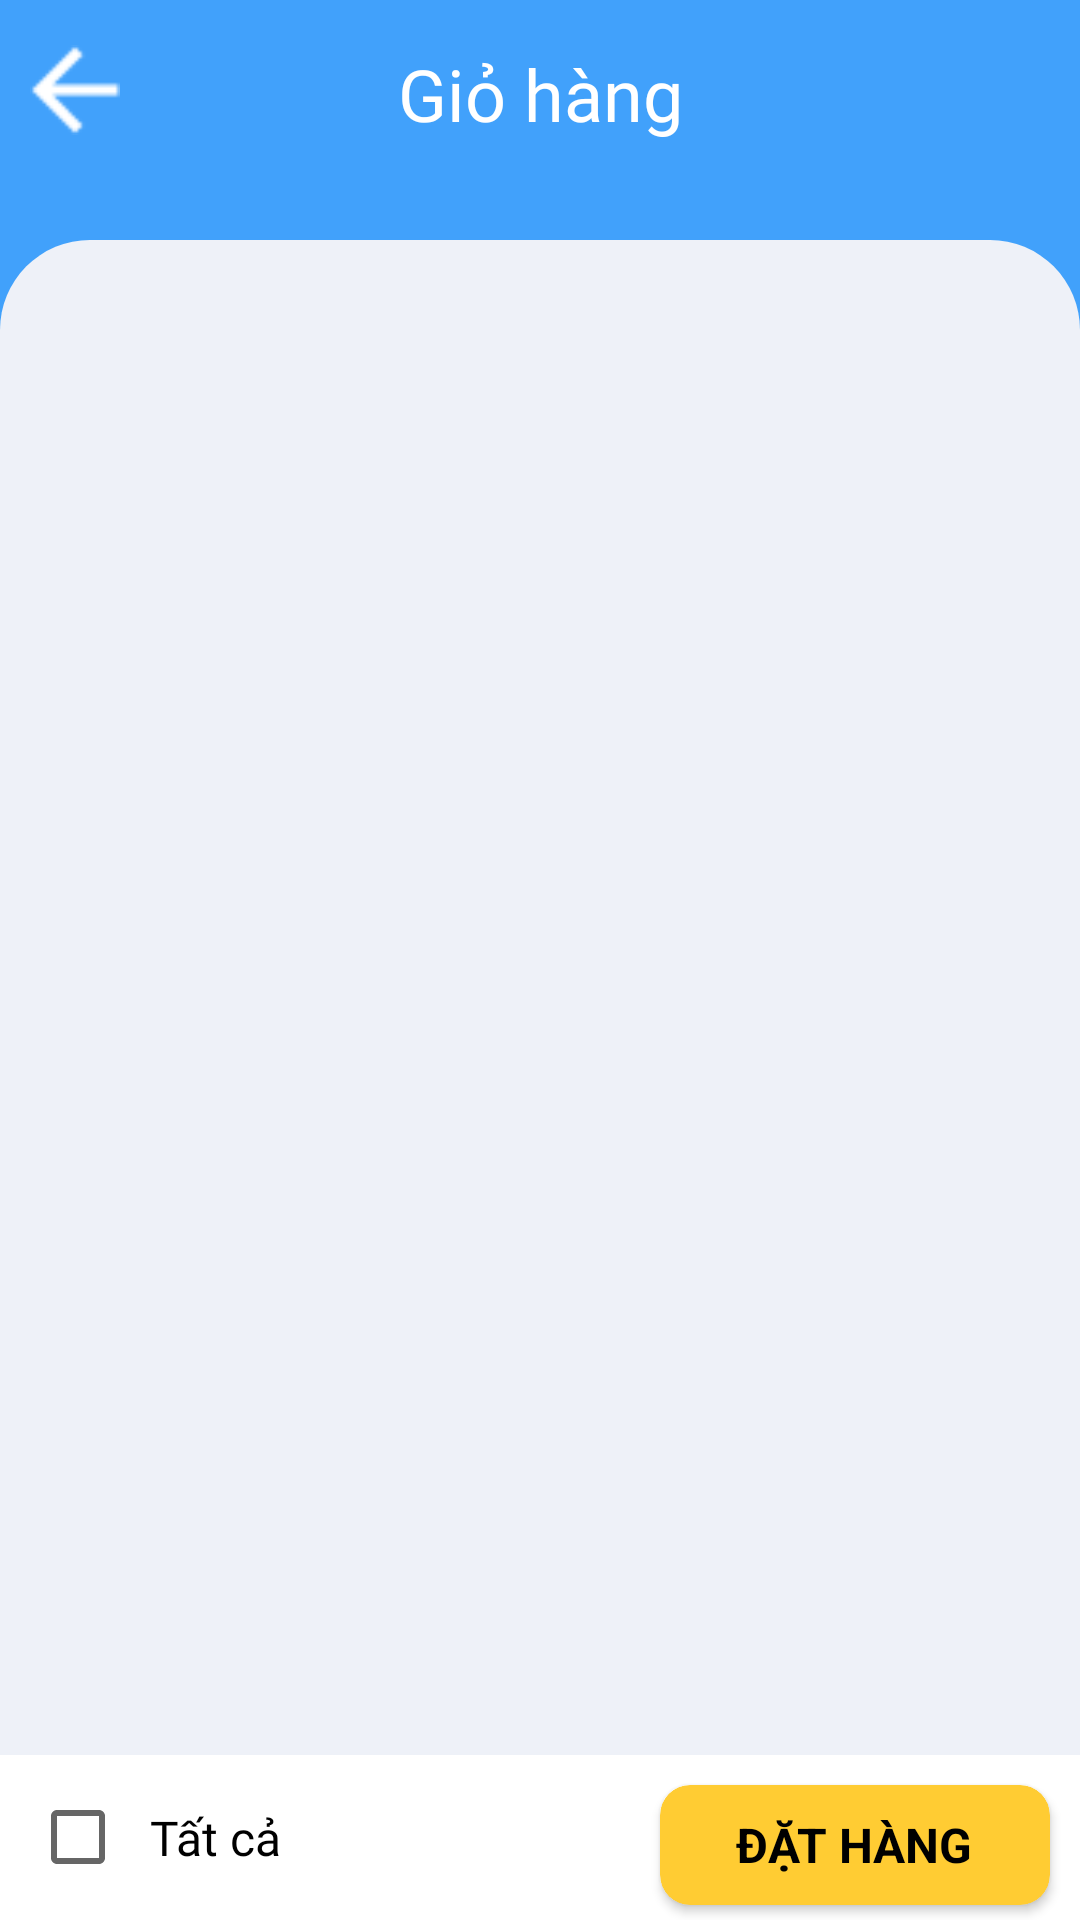

Screen size 1080w x 1920h. Icon name, then its center in pixels as point (x, y):
arrow back: point (76, 90)
